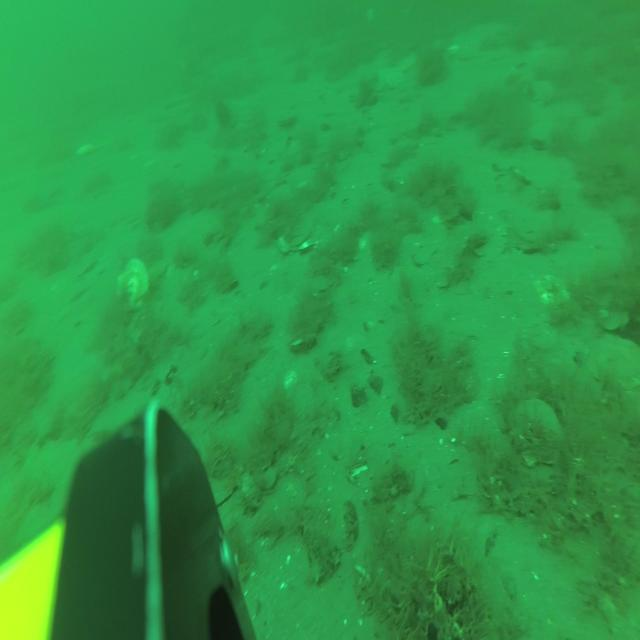scallop: (510, 398, 562, 465), (589, 331, 640, 389), (118, 261, 148, 308), (278, 226, 316, 254), (530, 75, 558, 103), (276, 105, 298, 126), (399, 50, 416, 69), (366, 6, 373, 21)
starfish: (377, 64, 407, 90)
